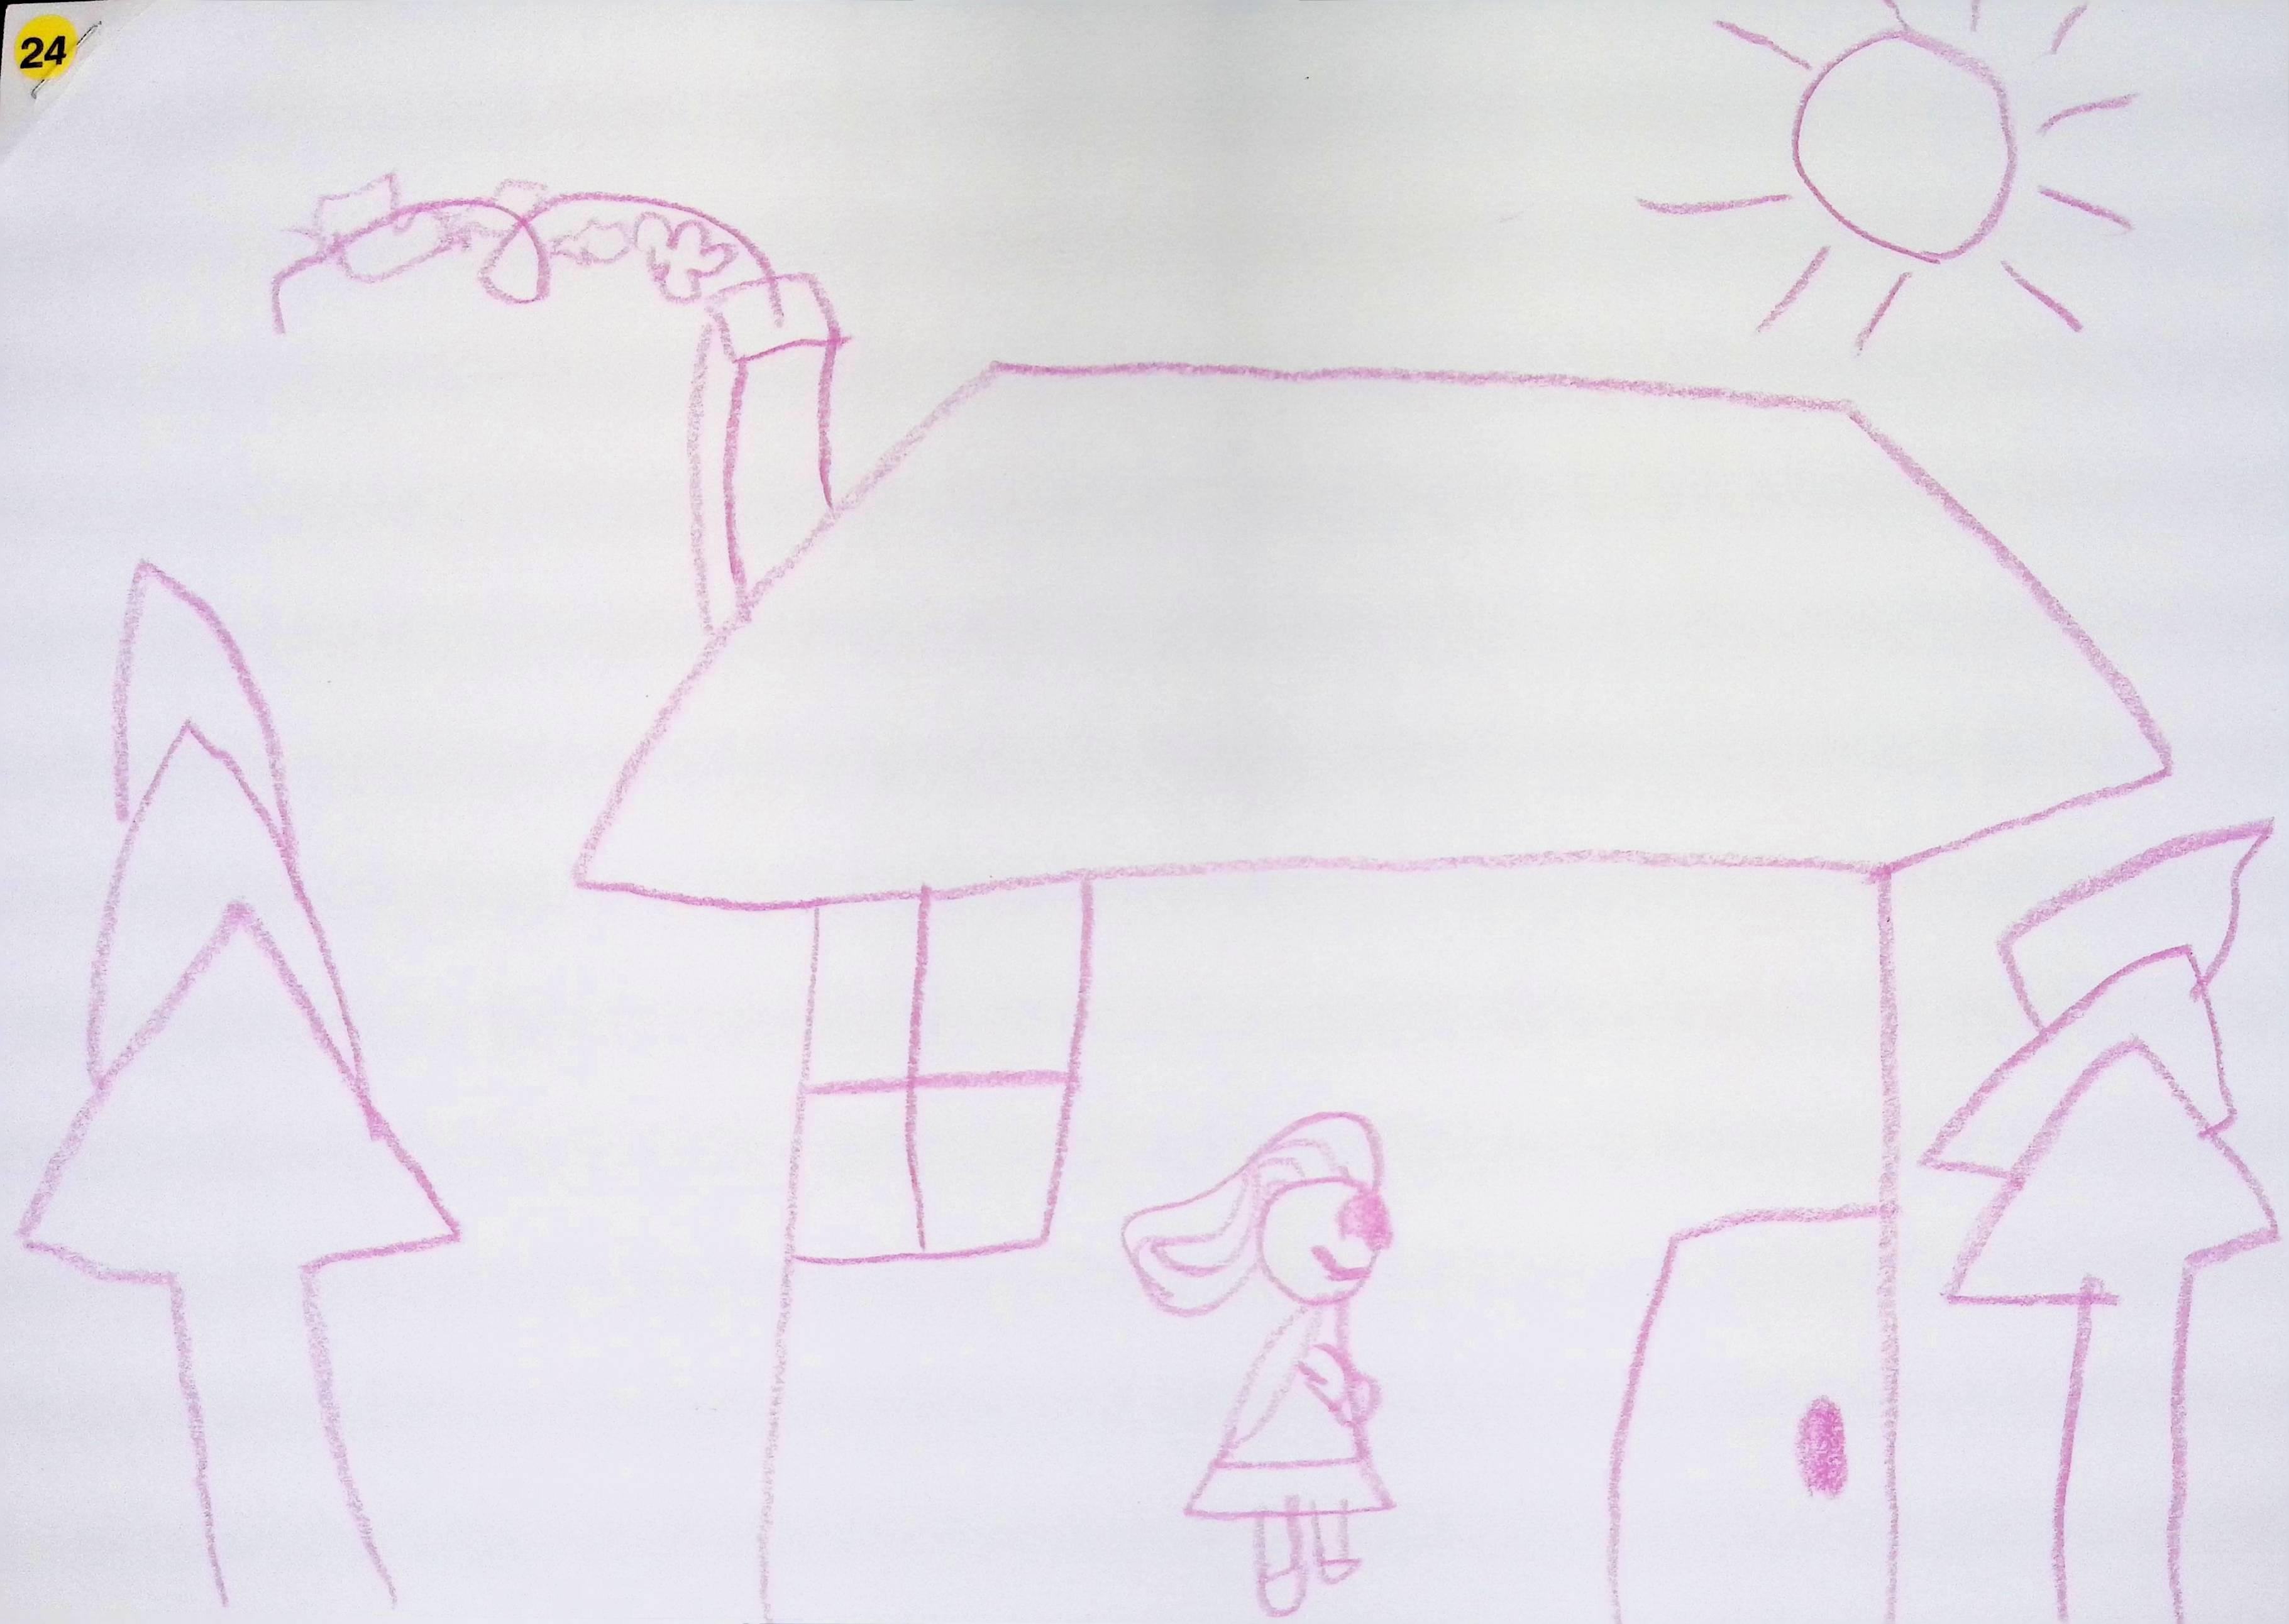chimney: (691, 271, 849, 657)
door: (1623, 1222, 1888, 1624)
house: (570, 271, 2178, 1624)
roof: (578, 364, 2169, 907)
wall: (770, 854, 1892, 1624), (1364, 791, 1377, 803)
window: (788, 882, 1088, 1267)
